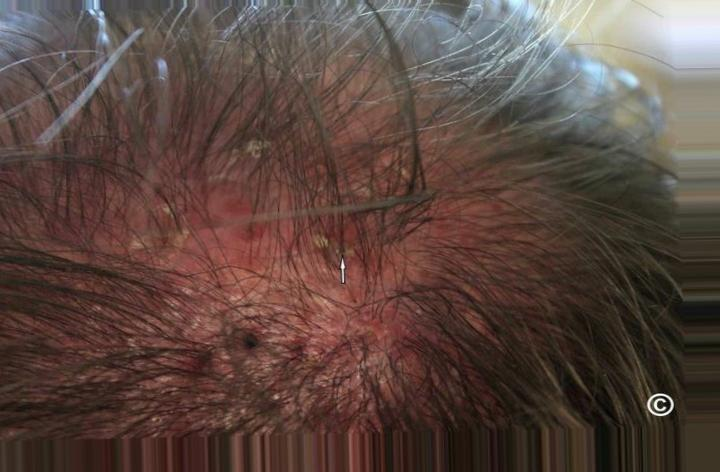Folliculitis: (179, 188, 434, 384)
